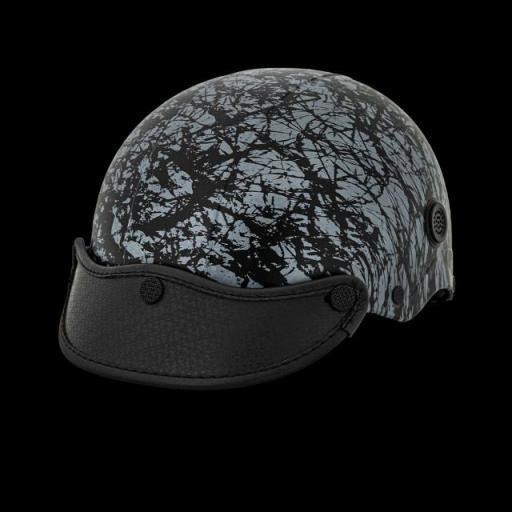with helmet: (14, 55, 487, 405)
